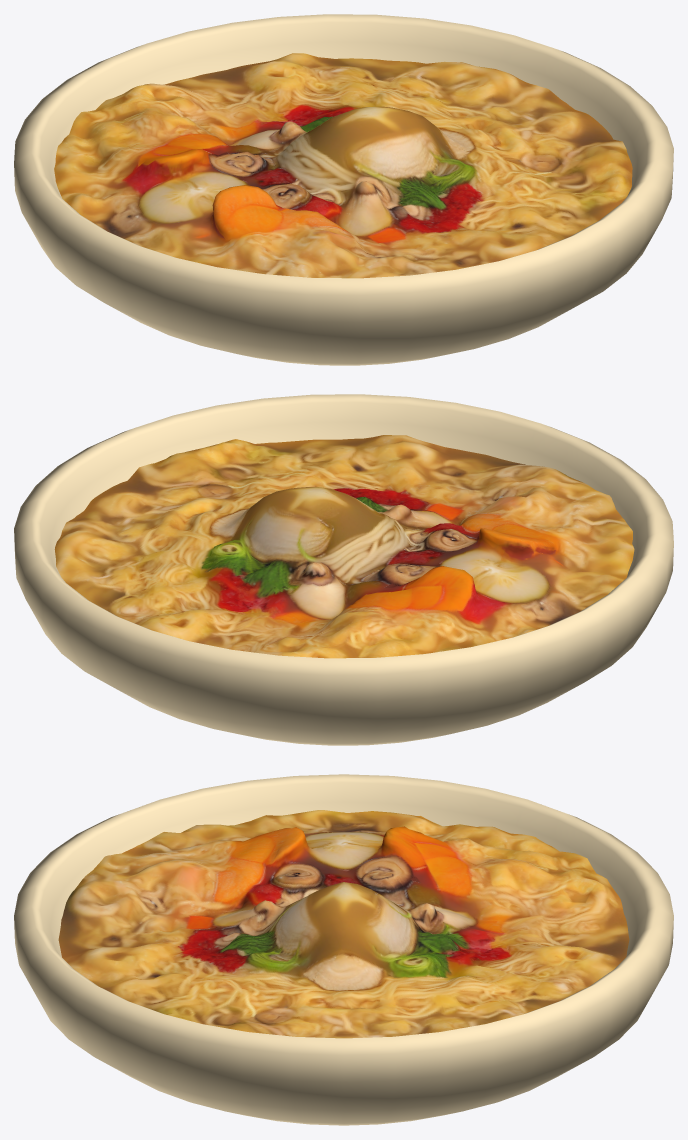
The model's file is bowlA.glb.
3 views of the same model, one above another, from view 1: azimuth 30°, elevation 25°; view 2: azimuth 150°, elevation 25°; view 3: azimuth 270°, elevation 25° (orthographic).
Visible parts, largest first — view 1: bowl; view 2: bowl; view 3: bowl.
Boxes of the visible parts, <box> form: bowl: <box>14,14,673,365</box>; bowl: <box>14,394,673,745</box>; bowl: <box>14,774,673,1125</box>.
Size of the model in its own units: 0.1009 by 0.0264 by 0.1009.
Materials: 2 (1 with a texture image).
